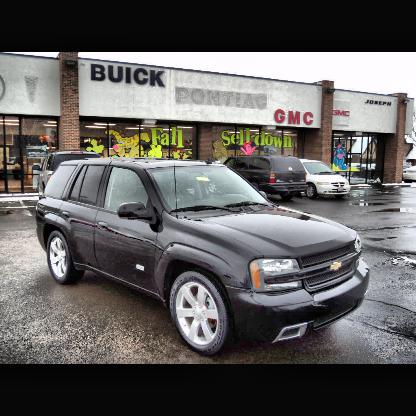Chevrolet TrailBlazer SS 2009: (35, 157, 371, 358)
